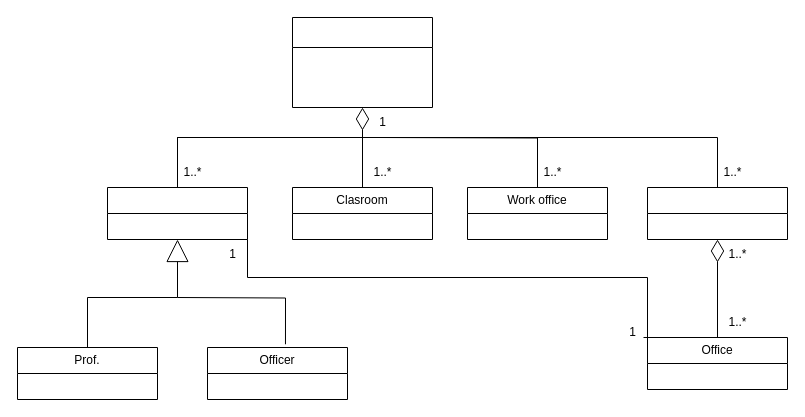
Some shapes in this 805 by 417 pixel diagram are drawn without their labels. The centre of each missing label's shape, as x and y in pixels:
"Department" goes at (x=717, y=213).
"Universty" goes at (x=362, y=62).
"Worker" goes at (x=177, y=213).
